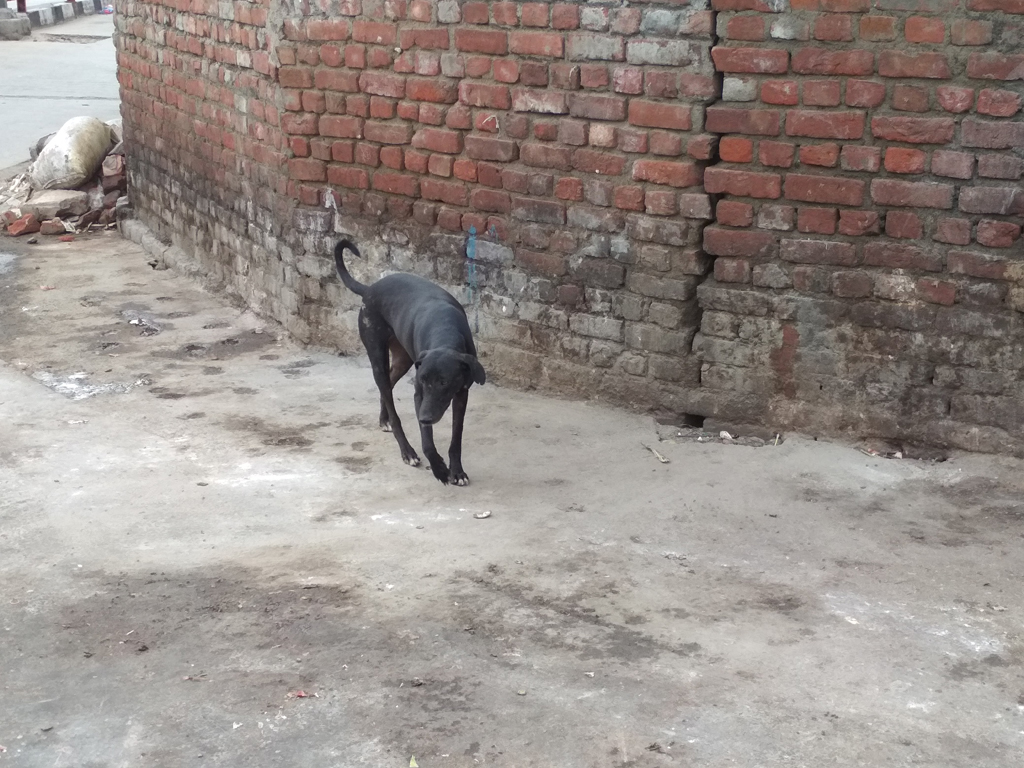dog: (333, 239, 487, 486)
